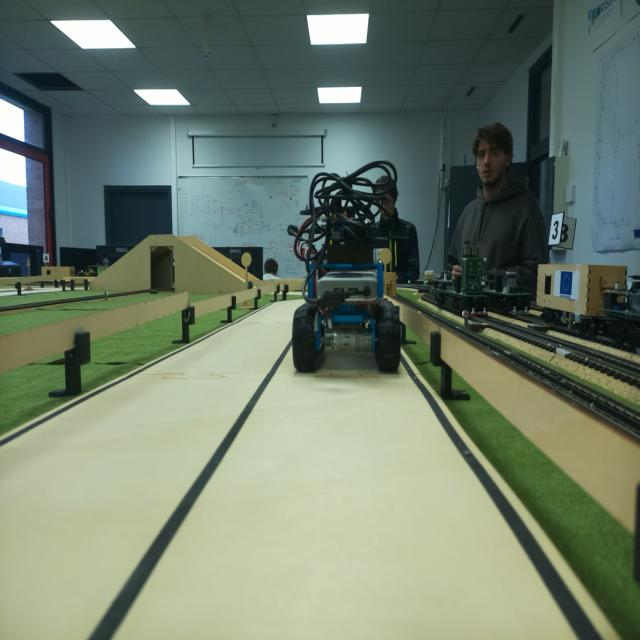obstacle_voiture: (292, 177, 402, 381)
